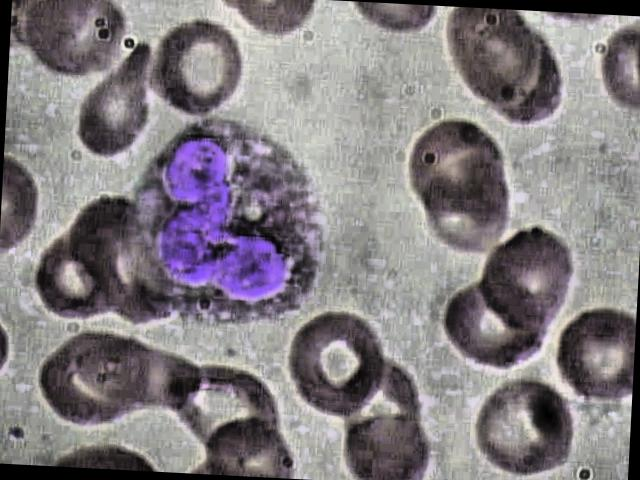RBC: (270, 307, 394, 420), (398, 112, 522, 225), (30, 327, 154, 440), (460, 224, 584, 336), (424, 6, 548, 118), (458, 378, 582, 480), (72, 29, 158, 164), (138, 21, 255, 118), (536, 300, 637, 408), (322, 405, 441, 480)
WBC: (118, 112, 346, 331)
